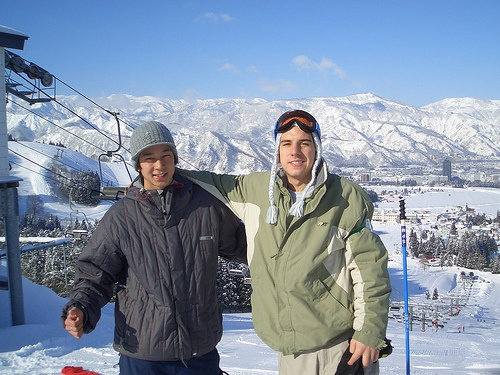head: (269, 107, 326, 186), (126, 114, 180, 194)
person: (199, 102, 400, 375), (61, 114, 243, 375)
